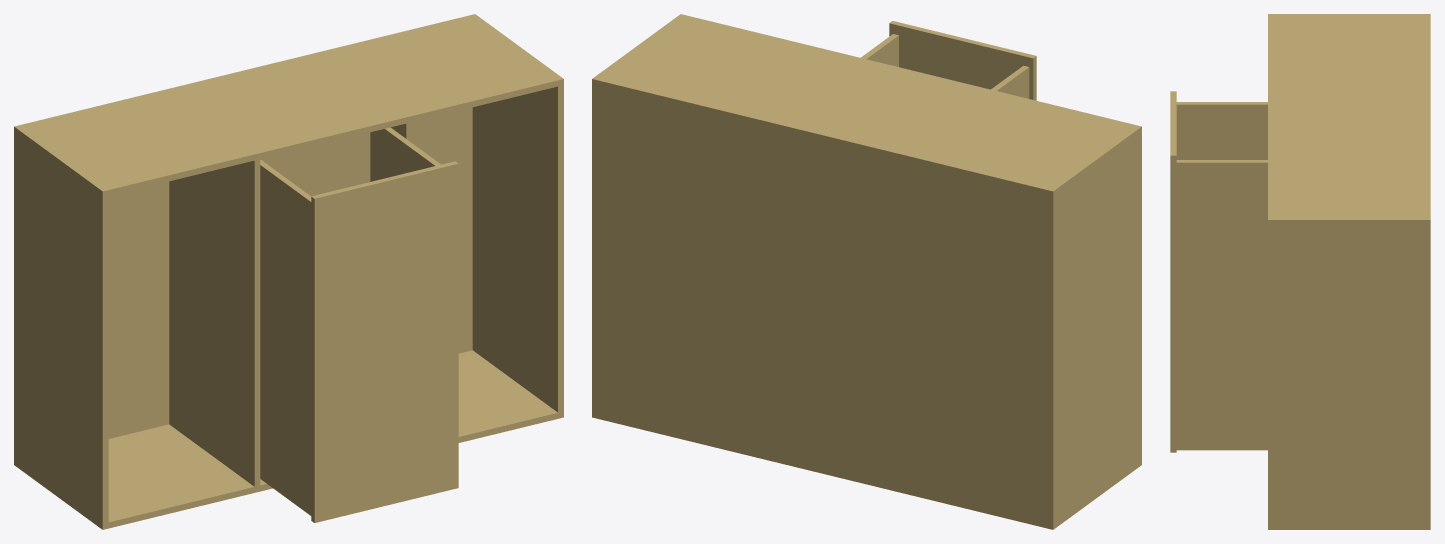
The model's file is meuble_69130f4239050.glb.
3 renders of one model, left to right at view 1: azimuth 30°, elevation 25°; view 2: azimuth 150°, elevation 25°; view 3: azimuth 270°, elevation 25°, orthographic. The views are drawn at different scales.
Visible parts, largest first — view 1: world; view 2: world; view 3: world.
Boxes of the visible parts, x1,y1,x2,y2 form: world: [14, 14, 563, 529]; world: [592, 14, 1141, 529]; world: [1170, 14, 1430, 529].
Size of the model in its own units: 1.5 by 1.05 by 0.8.
